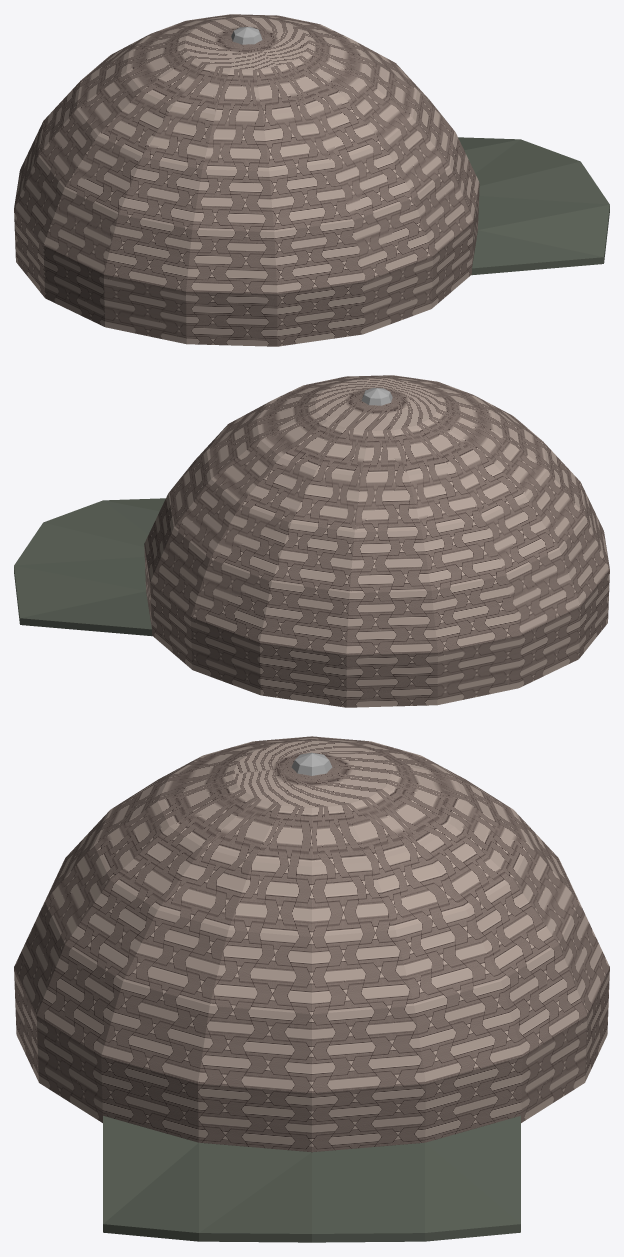
File: cap2.fbx
3 renders of one model, top to bottom at view 1: azimuth 30°, elevation 25°; view 2: azimuth 150°, elevation 25°; view 3: azimuth 270°, elevation 25°, orthographic. The views are drawn at different scales.
Visible parts, largest first — view 1: cap2; view 2: cap2; view 3: cap2.
Part boxes in pixels (x1,y1,x2,y2): cap2: [14, 14, 609, 346]; cap2: [14, 375, 609, 707]; cap2: [14, 736, 609, 1242].
Size of the model in its own units: 0.2246 by 0.0973 by 0.17.
